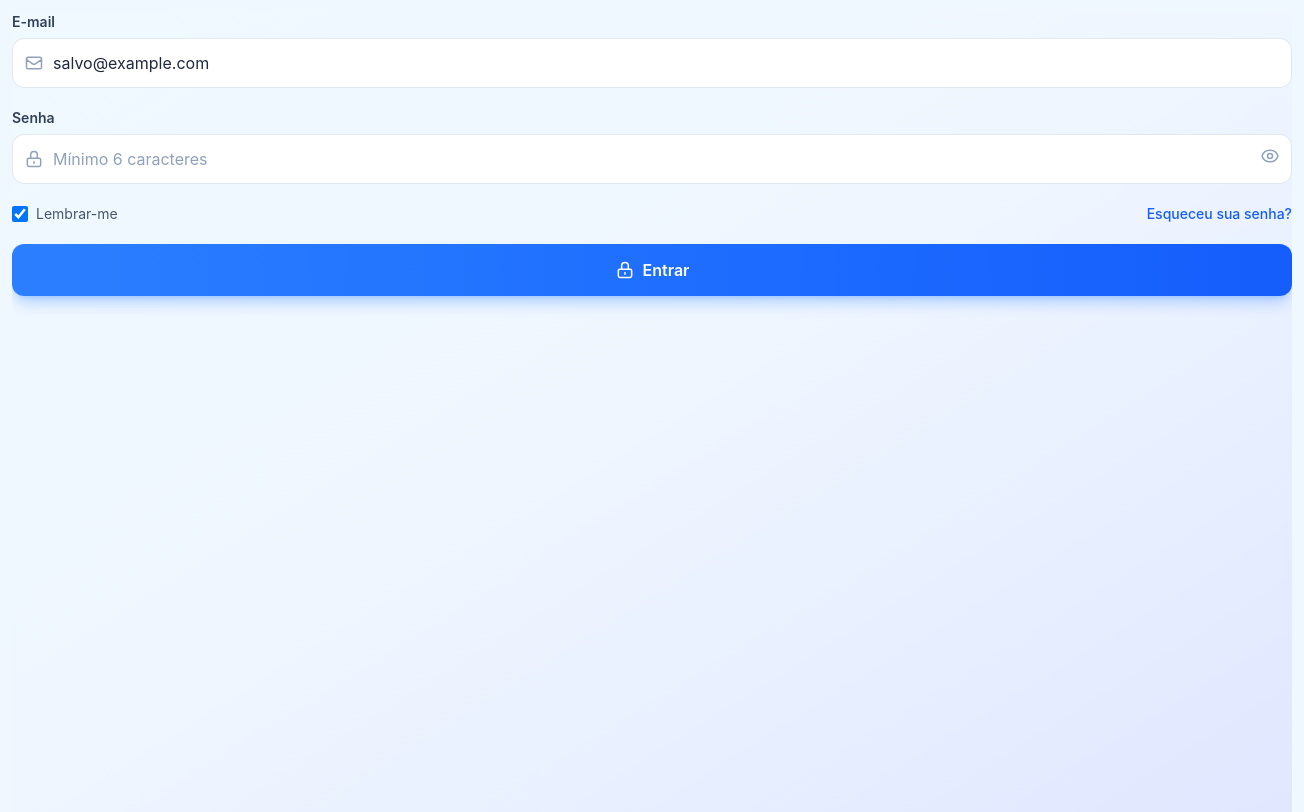
it: LoginForm › exibe sucesso após login
Type "123456" into the password field labelled "Senha" at (652, 159), box [12,134,1292,184]
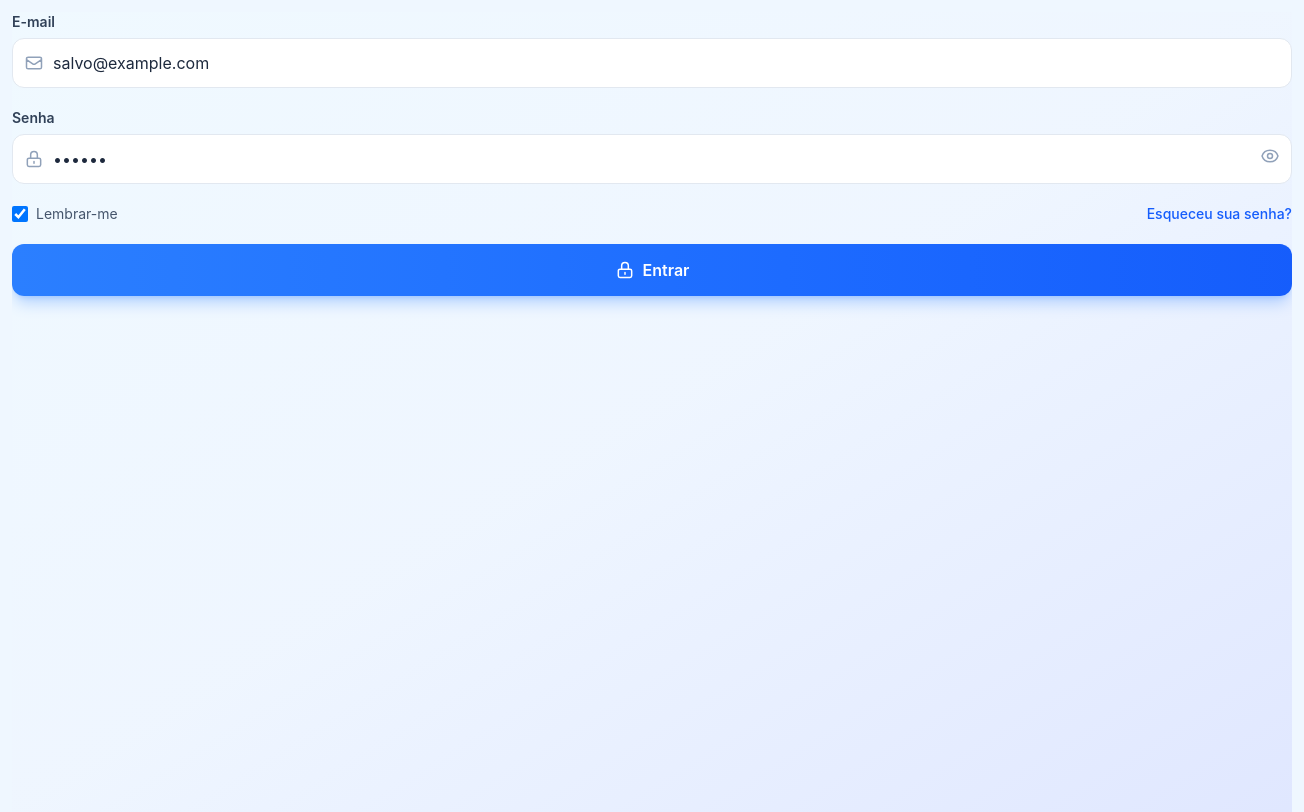
Click the button "Entrar" at (652, 270), box [12,244,1292,296]
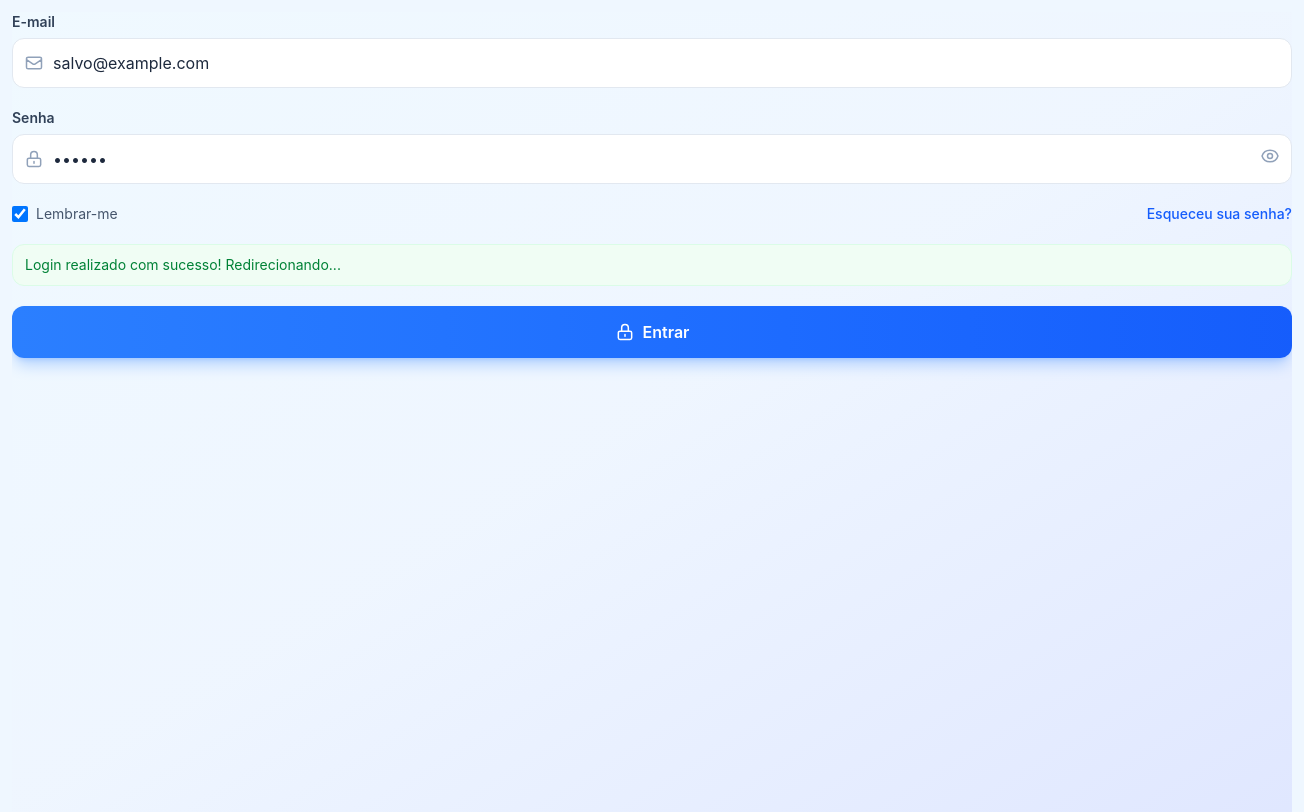
Expected: the text "Login realizado com sucesso! Redirecionando..." is shown, [12,244,1292,286]
